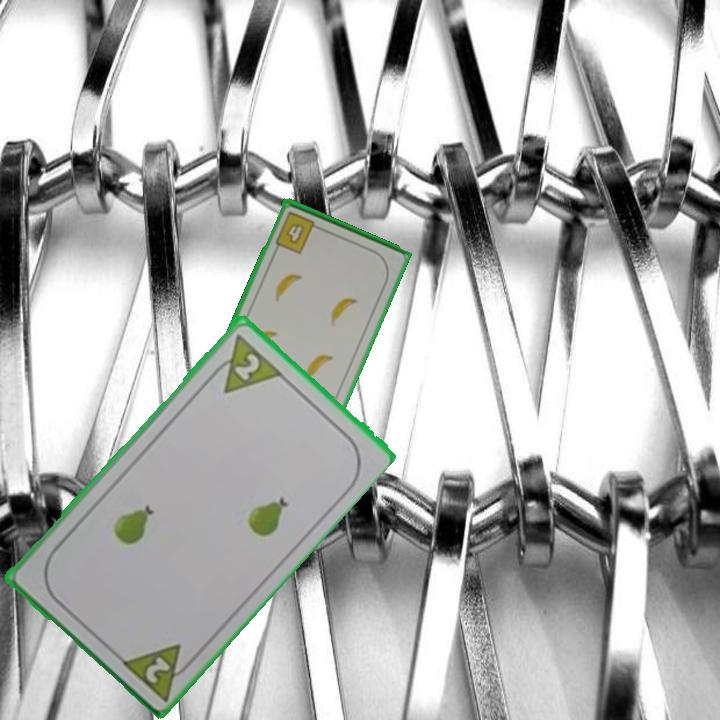2p: (116, 639, 200, 703), (205, 329, 283, 396)
4b: (272, 208, 324, 257)
